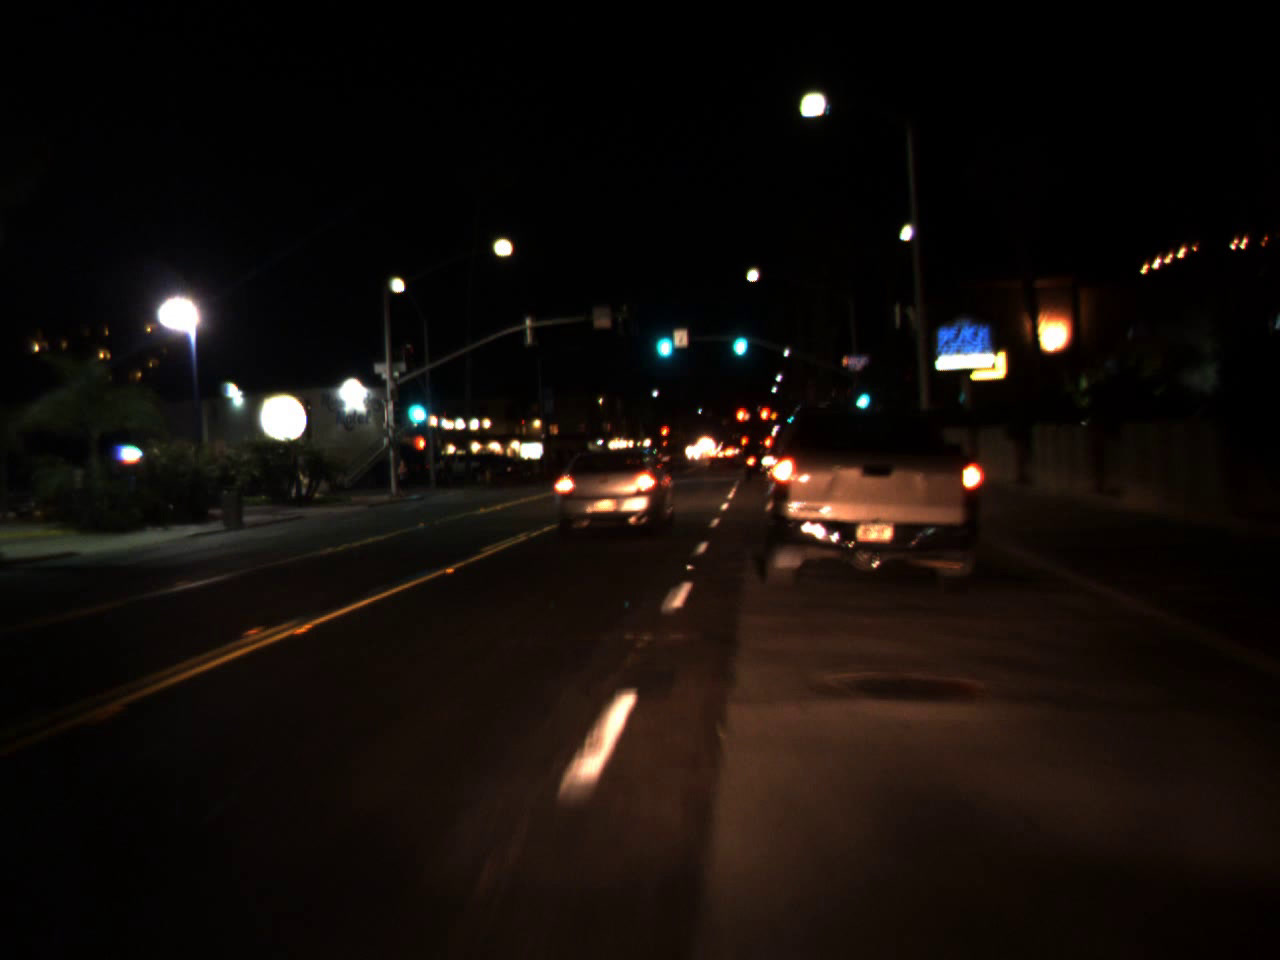go: (401, 376, 428, 433), (651, 313, 676, 364), (727, 318, 750, 357), (851, 375, 872, 414)
